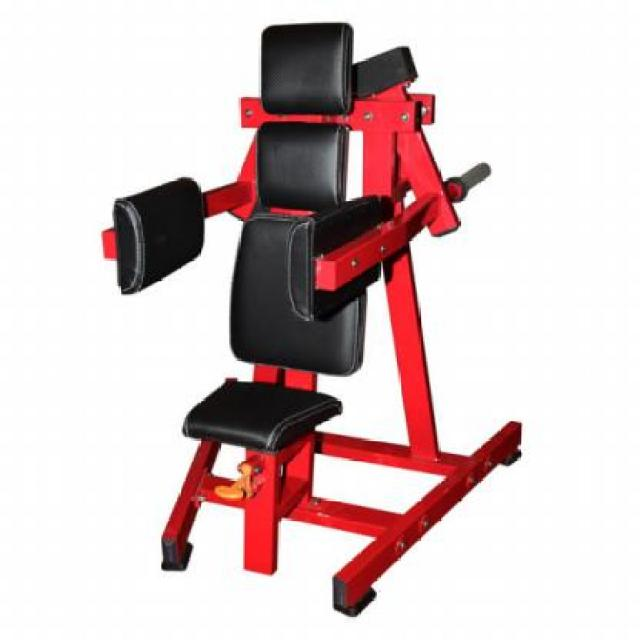lateral raises machine: (103, 20, 525, 620)
